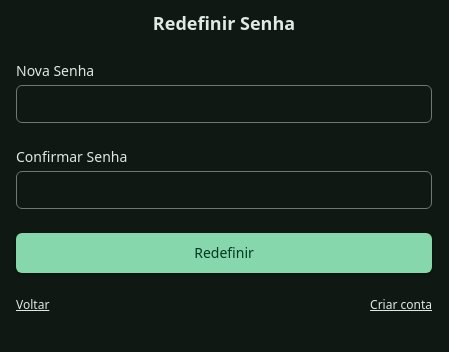
ResetPasswordPage › mostra erro quando senhas não conferem
In the password field labelled "Nova Senha": (224, 104) [16,85,432,123], type "abcdef"
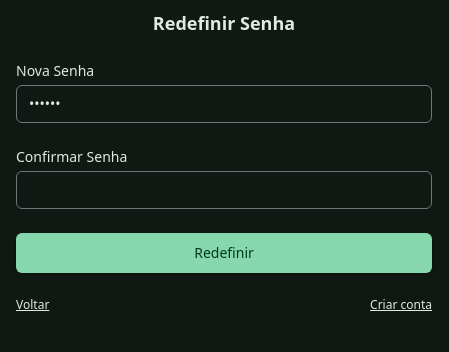
In the password field labelled "Confirmar Senha": (224, 190) [16,171,432,209], type "abcdeg"
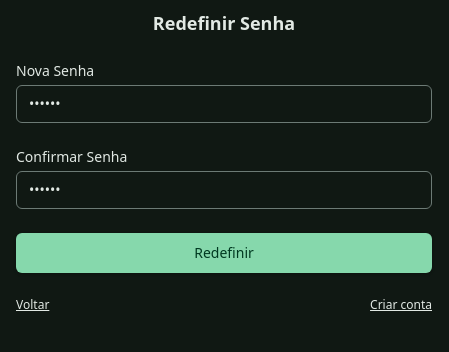
Click the button "Redefinir": click(224, 253) [16,233,432,273]
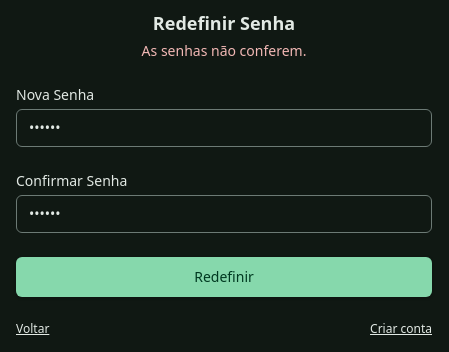
expect the text "As senhas não conferem." is shown: met, box [142,41,306,60]
